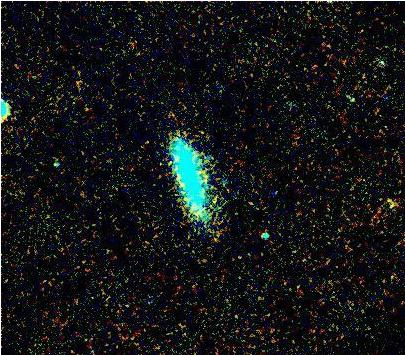star: (377, 184, 405, 214)
